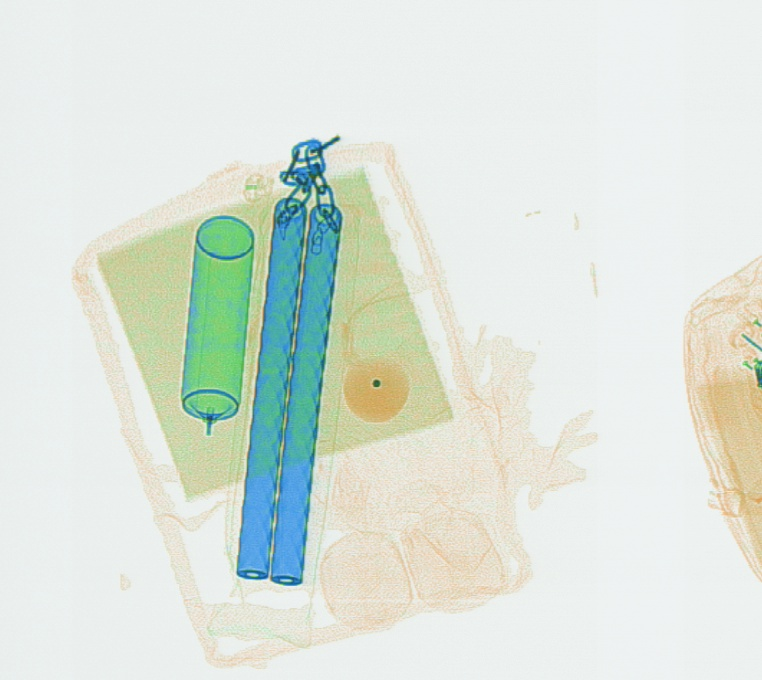pressure: (175, 211, 257, 437)
